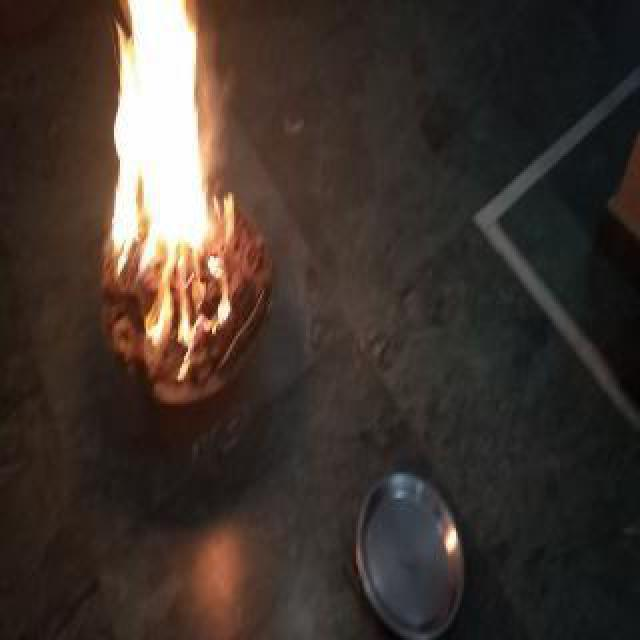Fire: (87, 0, 250, 340)
